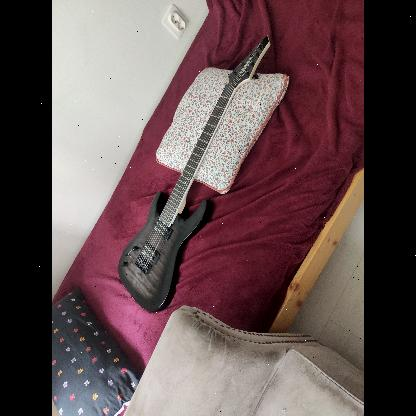guitar: (116, 33, 272, 315)
